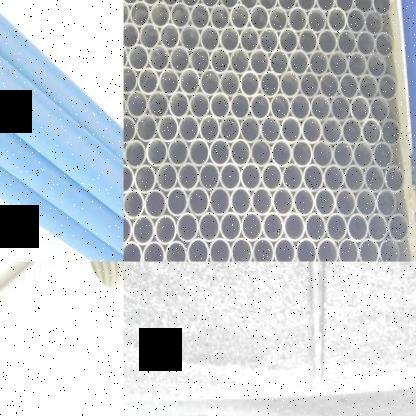pipe: (80, 262, 124, 304), (144, 188, 167, 219), (155, 214, 177, 246), (177, 162, 200, 192), (124, 139, 147, 169), (176, 213, 199, 243), (325, 212, 348, 242), (166, 187, 188, 218), (134, 163, 156, 194), (132, 215, 154, 246), (355, 188, 377, 218), (314, 188, 336, 218), (272, 187, 294, 217), (251, 186, 273, 216), (209, 186, 231, 216), (230, 186, 252, 216), (156, 162, 178, 192), (261, 162, 283, 192), (240, 162, 262, 192), (198, 212, 220, 242), (262, 212, 284, 242), (241, 212, 263, 242), (135, 114, 158, 142), (293, 188, 315, 217), (250, 139, 272, 168), (209, 138, 231, 167), (146, 138, 168, 167), (188, 138, 210, 167), (167, 138, 189, 167), (189, 91, 211, 120), (168, 90, 190, 119), (147, 90, 169, 119), (126, 90, 148, 119), (335, 188, 356, 218), (188, 187, 209, 217), (220, 162, 241, 192), (199, 162, 220, 192), (367, 213, 388, 243), (347, 212, 368, 242), (305, 212, 326, 242), (284, 212, 305, 242), (220, 212, 241, 242), (124, 188, 144, 219), (323, 164, 345, 192), (312, 140, 334, 168), (291, 140, 313, 168), (301, 116, 323, 144), (280, 116, 302, 144), (157, 114, 179, 142), (179, 68, 201, 96), (364, 165, 385, 194), (303, 163, 324, 192), (282, 163, 303, 192), (271, 139, 292, 168), (230, 139, 251, 168), (376, 188, 396, 218), (353, 140, 373, 170), (178, 115, 200, 142), (139, 23, 161, 50), (341, 118, 362, 146), (350, 95, 371, 123), (358, 73, 379, 101), (319, 72, 340, 100), (299, 72, 320, 100), (239, 70, 260, 98), (159, 68, 180, 96), (138, 68, 159, 96), (190, 46, 211, 74), (169, 46, 190, 74), (149, 44, 170, 72), (128, 44, 149, 72), (180, 24, 201, 52), (170, 2, 191, 30), (344, 164, 364, 193), (333, 140, 353, 169), (361, 119, 382, 146), (199, 115, 220, 142), (308, 50, 329, 77), (249, 49, 270, 76), (210, 48, 231, 75), (317, 28, 338, 55), (278, 27, 299, 54), (239, 26, 260, 53), (190, 3, 211, 30), (322, 117, 342, 145), (261, 116, 281, 144), (240, 116, 260, 144), (220, 115, 240, 143), (311, 94, 331, 122), (290, 94, 310, 122), (270, 93, 290, 121), (250, 92, 270, 120), (280, 70, 300, 98), (260, 70, 280, 98), (220, 70, 240, 98), (200, 69, 220, 97), (230, 48, 250, 76), (150, 1, 170, 29), (388, 214, 408, 242), (208, 237, 231, 261), (384, 166, 405, 192), (381, 119, 401, 146), (331, 95, 351, 122), (230, 93, 250, 120), (210, 92, 230, 119), (339, 73, 359, 100), (269, 49, 289, 76), (337, 29, 357, 56), (298, 27, 318, 54), (259, 27, 279, 54), (160, 24, 180, 51), (210, 4, 230, 31), (130, 1, 150, 28), (373, 142, 392, 170), (356, 30, 375, 58), (186, 238, 209, 261), (273, 237, 295, 261), (252, 237, 274, 261), (289, 50, 309, 76), (220, 26, 240, 52), (370, 96, 389, 123), (367, 52, 386, 79), (329, 51, 348, 78), (250, 5, 269, 32), (316, 238, 338, 261), (357, 238, 379, 261), (378, 74, 396, 102), (200, 26, 220, 51), (307, 8, 327, 33), (230, 5, 250, 30), (348, 52, 367, 78), (288, 7, 307, 33), (347, 8, 365, 35), (378, 238, 399, 261), (296, 238, 317, 261), (231, 238, 252, 261), (337, 238, 358, 261), (327, 8, 346, 33), (269, 7, 288, 32), (375, 32, 393, 58), (365, 10, 383, 36), (165, 240, 187, 261), (142, 241, 165, 261), (124, 22, 139, 50), (124, 66, 138, 95), (123, 114, 136, 143), (124, 241, 142, 261), (123, 164, 134, 193), (371, 0, 390, 15), (124, 214, 132, 246), (354, 0, 372, 14), (334, 0, 354, 12), (296, 0, 316, 12), (316, 0, 335, 12), (277, 0, 296, 11), (258, 0, 277, 10), (238, 0, 258, 9), (219, 0, 238, 9), (200, 0, 219, 8), (180, 0, 200, 7), (124, 0, 129, 27), (161, 0, 180, 7), (140, 0, 161, 6), (124, 43, 128, 71), (124, 0, 140, 5)
